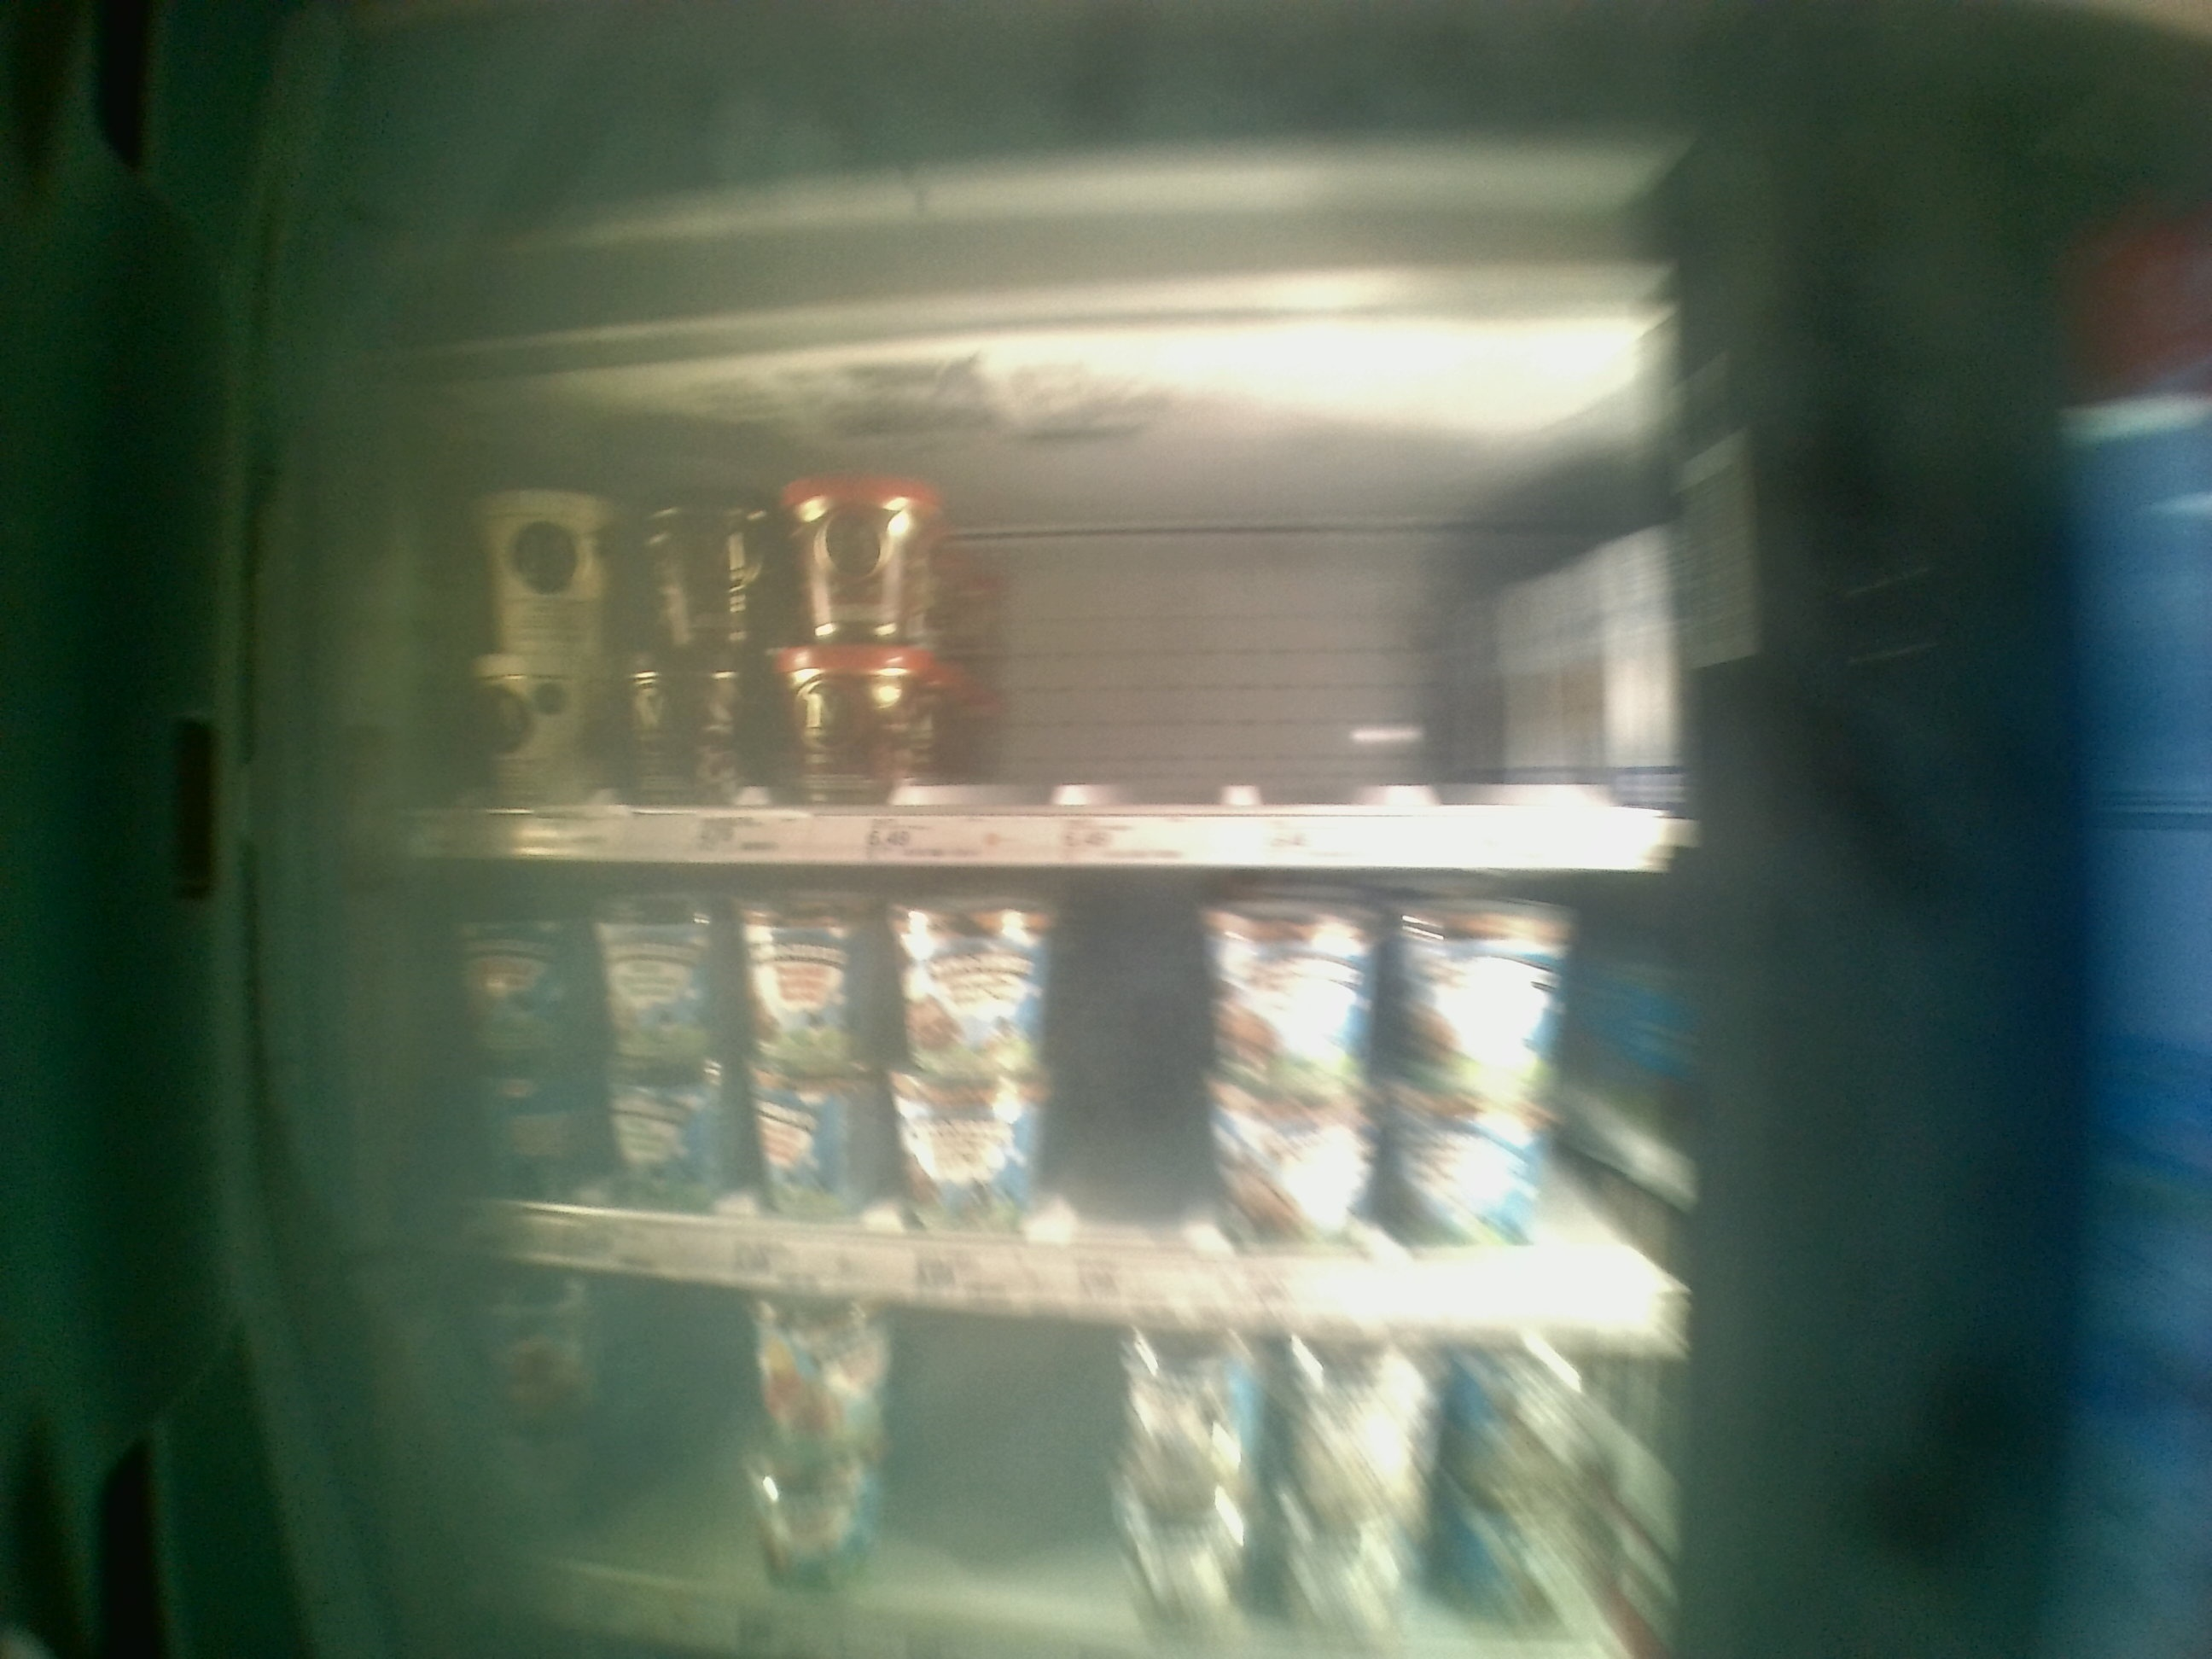shelf: (399, 390, 1691, 871), (392, 870, 1686, 1344)
